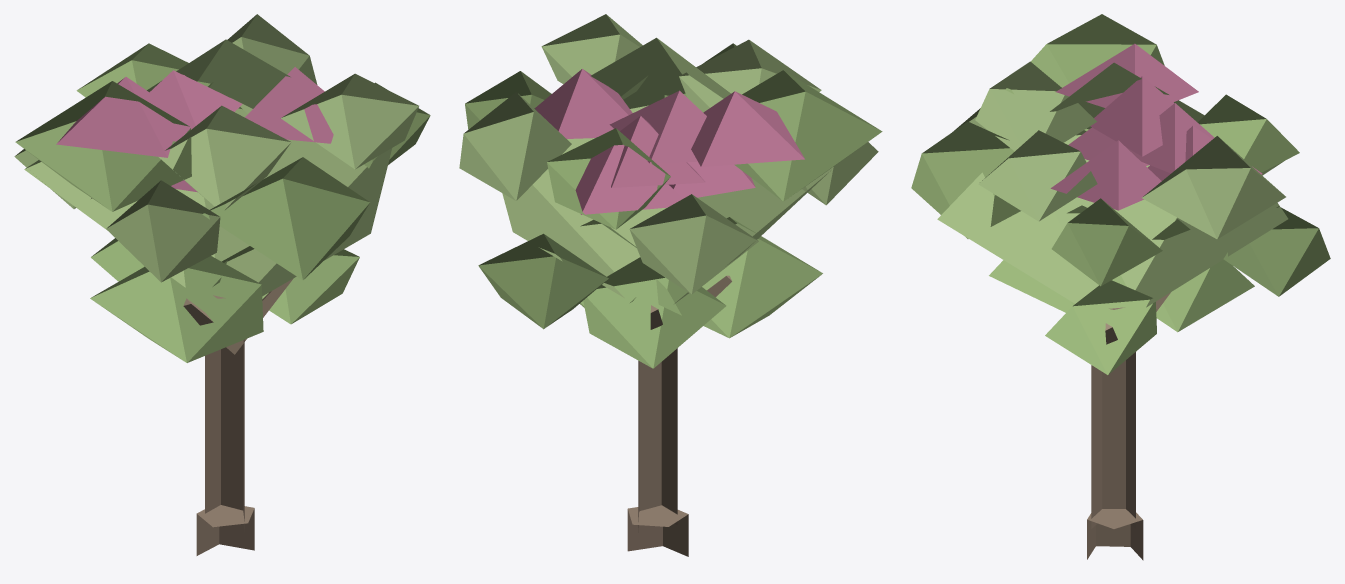
The model's file is tree.sub.camphor__bloom.glb.
3 views of the same model, side by side, from view 1: azimuth 30°, elevation 25°; view 2: azimuth 150°, elevation 25°; view 3: azimuth 270°, elevation 25° (orthographic). The views are drawn at different scales.
Parts seen in each view (by area): view 1: tree.sub.camphor__bloom; view 2: tree.sub.camphor__bloom; view 3: tree.sub.camphor__bloom.
Boxes of the visible parts, x1,y1,x2,y2 form: tree.sub.camphor__bloom: [14, 14, 430, 555]; tree.sub.camphor__bloom: [459, 14, 882, 556]; tree.sub.camphor__bloom: [911, 14, 1330, 560].
Size of the model in its own units: 13.65 by 17.47 by 13.44.
